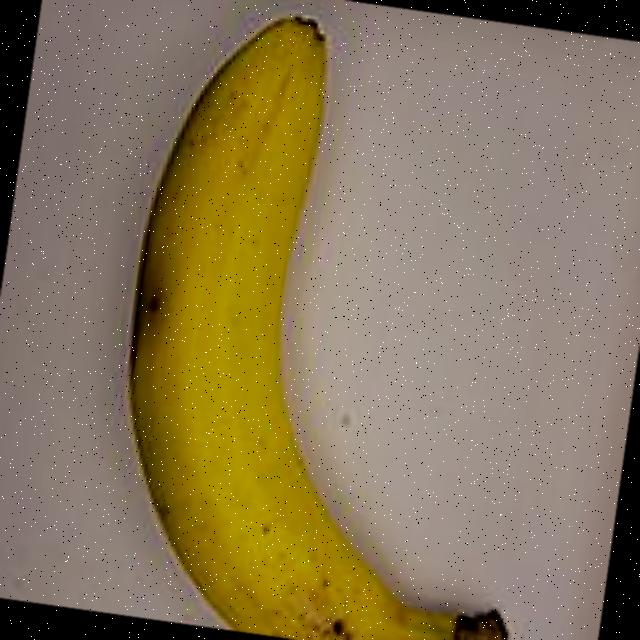Ripe: (31, 0, 612, 640)
